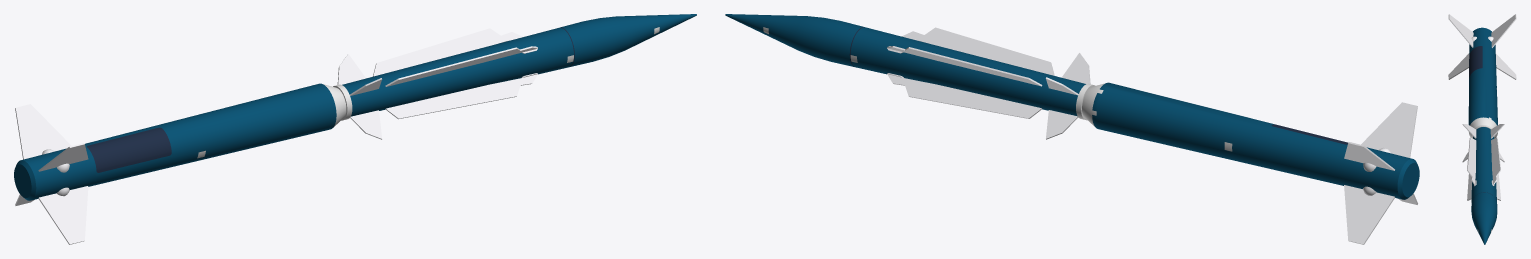
Rendered from verticalmie.glb.
3 views of the same model, side by side, from view 1: azimuth 30°, elevation 25°; view 2: azimuth 150°, elevation 25°; view 3: azimuth 270°, elevation 25° (orthographic). The views are drawn at different scales.
Parts seen in each view (by area): view 1: Barrel_0, TopFin1_10, TopFin3_12, BottomFin1_1, BottomFin3_3, TopFin4_11, BottomFin4_4, MidFin1_5, MidFin3_7; view 2: Barrel_0, TopFin2_9, TopFin4_11, BottomFin2_2, BottomFin4_4, TopFin3_12, BottomFin3_3, MidFin2_8, MidFin4_6; view 3: Barrel_0, TopFin3_12, TopFin4_11, BottomFin3_3, BottomFin4_4, BottomFin1_1, BottomFin2_2, TopFin1_10, TopFin2_9, MidFin4_6, MidFin3_7.
Boxes of the visible parts, x1,y1,x2,y2 form: Barrel_0: (14, 14, 696, 200); TopFin1_10: (385, 73, 537, 119); TopFin3_12: (373, 28, 522, 76); BottomFin1_1: (38, 186, 88, 244); BottomFin3_3: (15, 104, 71, 159); TopFin4_11: (385, 46, 537, 86); BottomFin4_4: (38, 143, 88, 172); MidFin1_5: (350, 110, 382, 139); MidFin3_7: (337, 54, 365, 84); Barrel_0: (725, 14, 1419, 199); TopFin2_9: (887, 73, 1041, 118); TopFin4_11: (902, 27, 1054, 75); BottomFin2_2: (1344, 185, 1395, 244); BottomFin4_4: (1361, 102, 1417, 157); TopFin3_12: (887, 46, 1042, 86); BottomFin3_3: (1344, 142, 1394, 171); MidFin2_8: (1046, 110, 1078, 139); MidFin4_6: (1062, 53, 1090, 84); Barrel_0: (1468, 27, 1497, 244); TopFin3_12: (1491, 137, 1500, 186); TopFin4_11: (1467, 137, 1476, 186); BottomFin3_3: (1488, 14, 1516, 47); BottomFin4_4: (1448, 14, 1476, 47); BottomFin1_1: (1448, 53, 1469, 79); BottomFin2_2: (1495, 53, 1516, 79); TopFin1_10: (1467, 174, 1471, 202); TopFin2_9: (1496, 174, 1500, 200); MidFin4_6: (1462, 124, 1476, 138); MidFin3_7: (1490, 124, 1504, 138).
Bounding box in the file's own units: 89.74 × 12.49 × 12.53.
